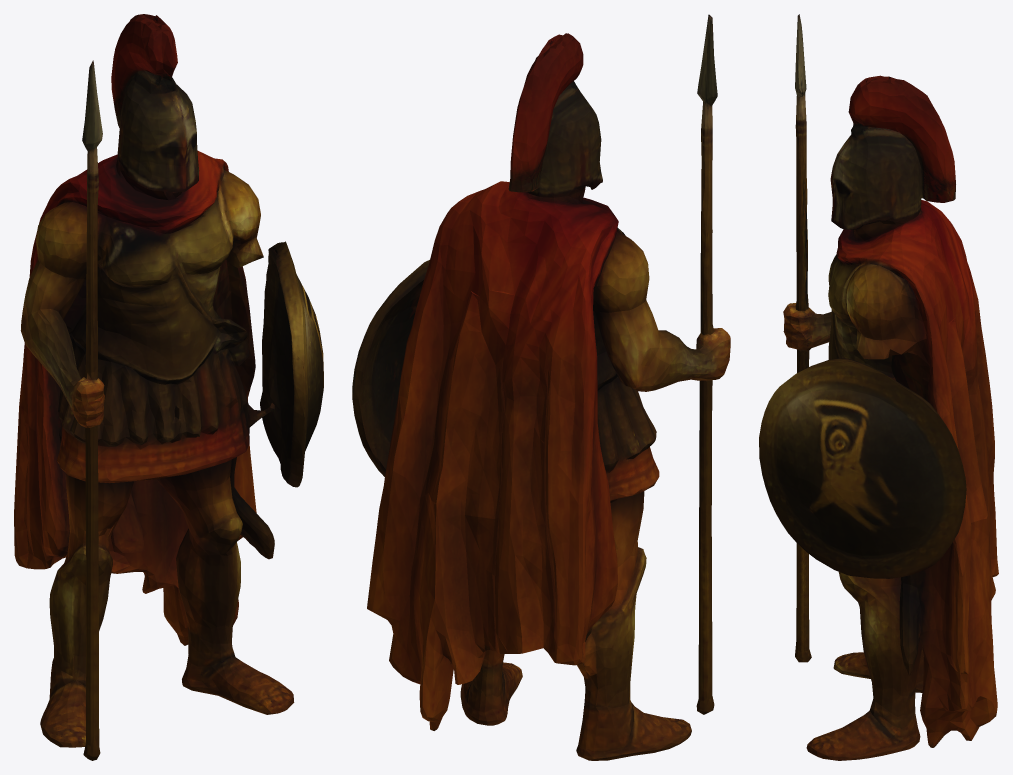
Rendered from Hoplite.glb.
3 renders of one model, left to right at view 1: azimuth 30°, elevation 25°; view 2: azimuth 150°, elevation 25°; view 3: azimuth 270°, elevation 25°, orthographic. The views are drawn at different scales.
Visible parts, largest first — view 1: world; view 2: world; view 3: world.
Boxes of the visible parts, left/top/right/bottom form: world: left=14, top=14, right=323, bottom=760; world: left=352, top=14, right=730, bottom=760; world: left=759, top=14, right=998, bottom=760.
Bounding box in the file's own units: 0.4182 × 0.9841 × 0.3277.
Materials: 1 (1 with a texture image).
